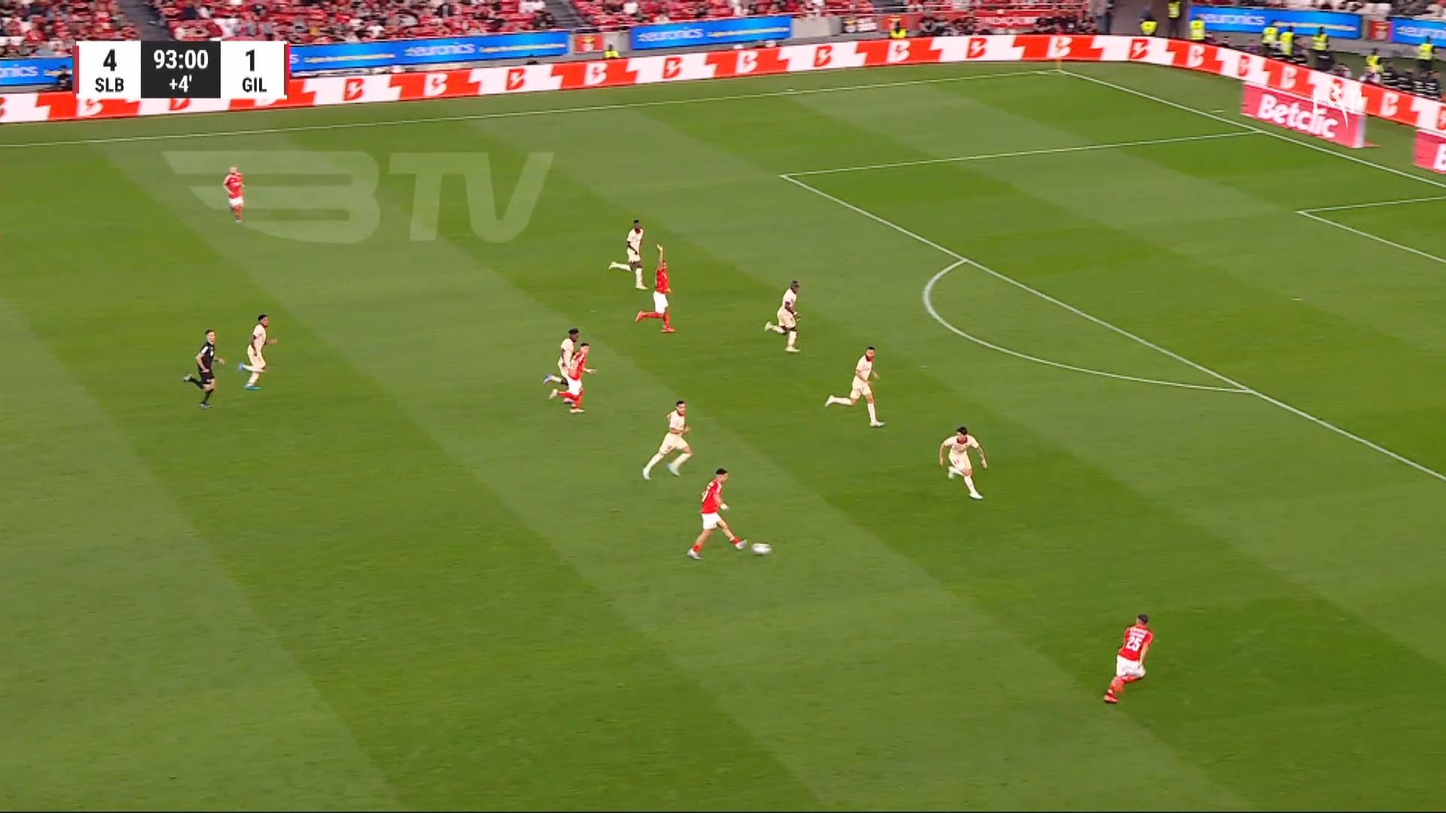ball: (751, 542, 771, 556)
player: (685, 467, 747, 559), (823, 345, 885, 428), (1102, 613, 1154, 704), (641, 398, 693, 481), (633, 244, 676, 333), (938, 425, 988, 499), (547, 341, 596, 414), (236, 313, 277, 390), (606, 218, 648, 291), (763, 279, 803, 352), (542, 327, 579, 388), (222, 164, 246, 223)
referee: (182, 329, 224, 410)
